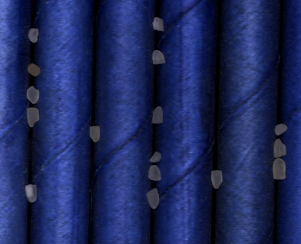broken_grain: (270, 157, 288, 183), (145, 187, 161, 211), (25, 106, 41, 128), (151, 104, 166, 127), (272, 138, 287, 160), (209, 168, 224, 189), (146, 164, 163, 182), (87, 123, 101, 144), (26, 25, 41, 44), (26, 85, 40, 105), (151, 49, 167, 66), (150, 17, 165, 33), (273, 123, 288, 138), (149, 151, 162, 165)
milky_grain: (24, 181, 39, 205)
yellow_grain: (27, 63, 42, 78)
